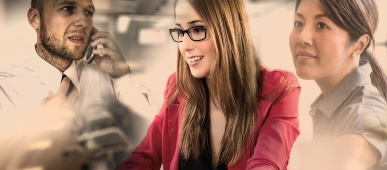female: (161, 3, 255, 112), (287, 2, 385, 95)
male: (25, 1, 107, 67)
